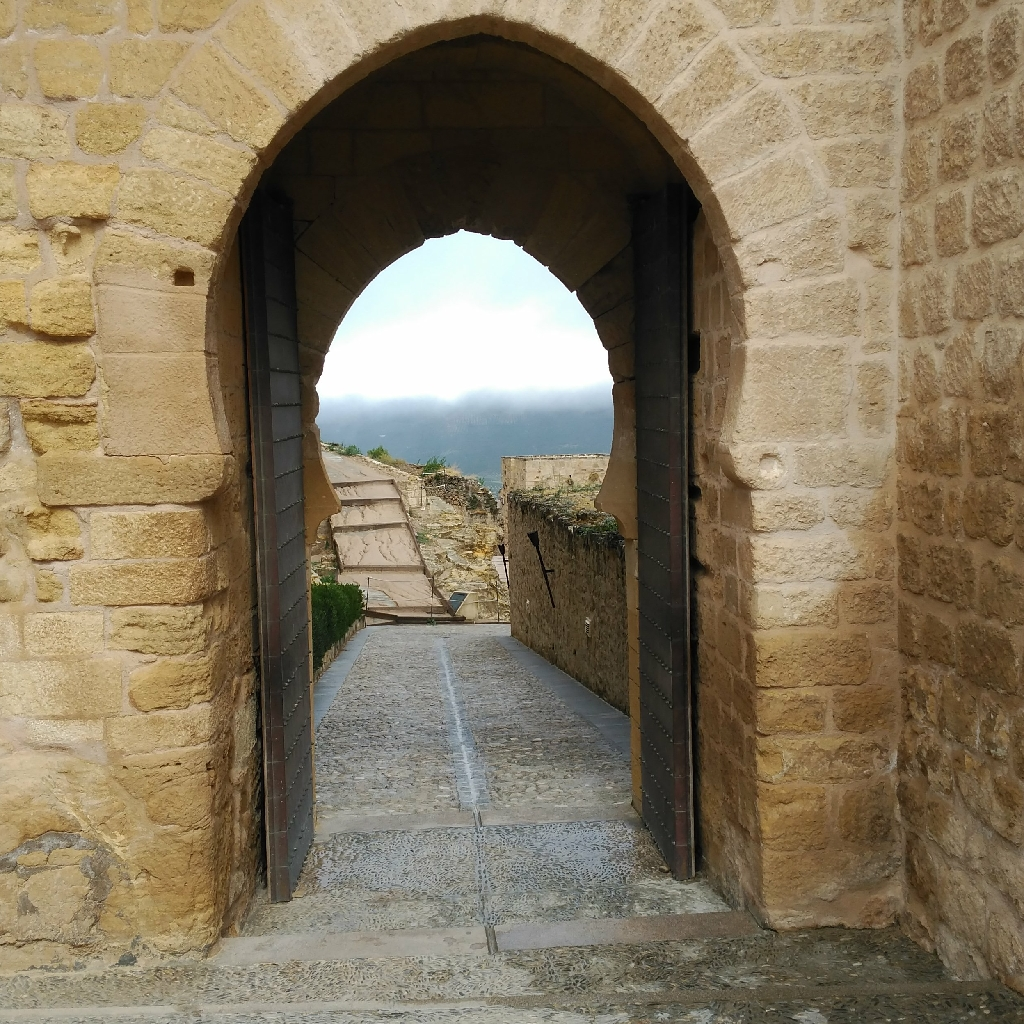arco-herradura: (174, 1, 780, 531)
